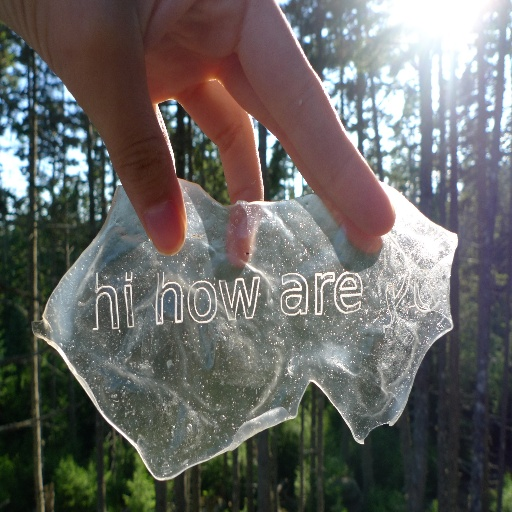hand: (0, 0, 395, 265)
